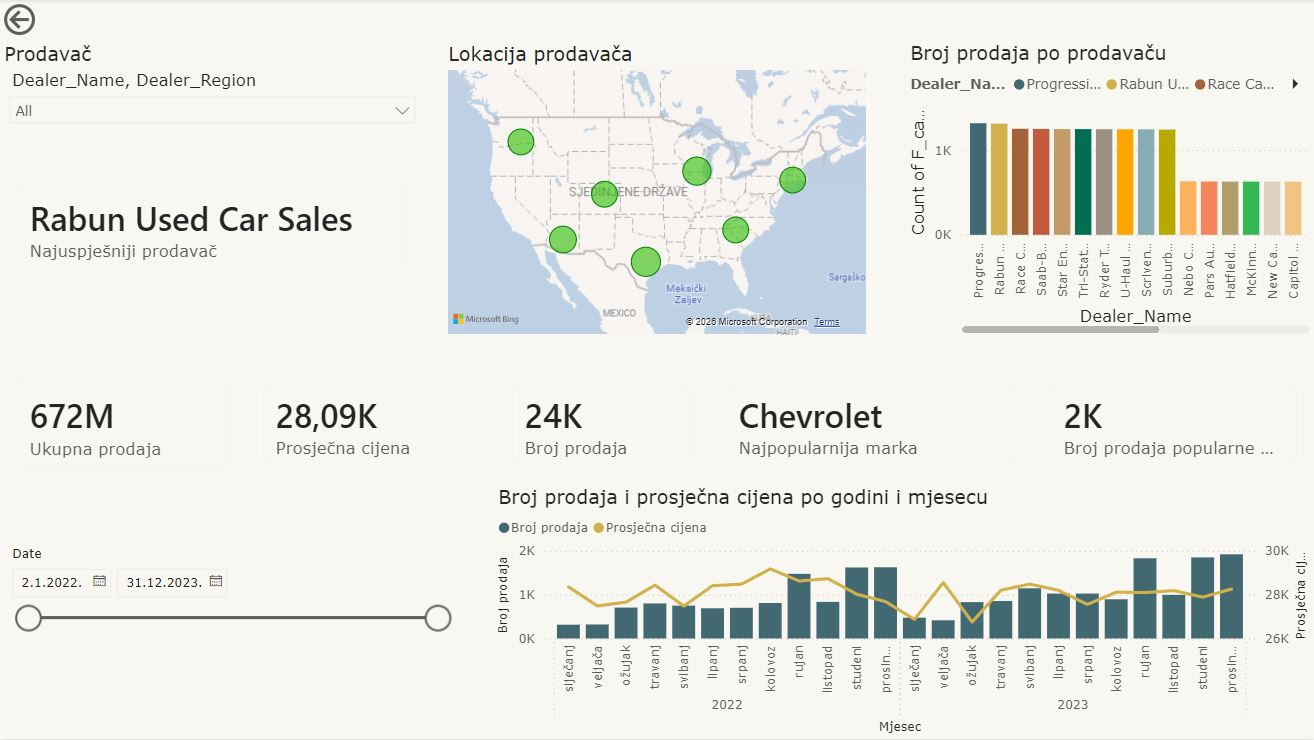

Layout of this report page (visuals, bound fields, positions):
{"tool":"powerbi","page":{"name":"Geografska analiza","canvas":[1280,720],"ordinal":3},"visuals":[{"type":"map","title":"Lokacija prodavača","fields":{"Category":["dim_dealer.Dealer_Region"],"Size":["fact_sale.Broj prodaja"]},"box":[431.8,40.8,415.9,290],"z":0},{"type":"actionButton","box":[0,0,100,40],"z":1000},{"type":"slicer","title":"Prodavač","fields":{"Values":["dim_dealer.Dealer_Name","dim_dealer.Dealer_Region"]},"box":[0,40.8,415,92.2],"z":2000},{"type":"columnChart","title":"Broj prodaja po prodavaču","fields":{"Series":["dim_dealer.Dealer_Name"],"Category":["dim_dealer.Dealer_Name"],"Y":["CountNonNull(fact_sale.F_car_id)"]},"box":[881.4,39.9,399,290.8],"z":3000},{"type":"cardVisual","fields":{"Data":["fact_sale.Prosječna cijena"]},"box":[239.4,360,242.1,105.5],"z":4000},{"type":"cardVisual","fields":{"Data":["fact_sale.Broj_prodaja_najprodavanije"]},"box":[1005.5,360,274.9,105.5],"z":5000},{"type":"cardVisual","fields":{"Data":["fact_sale.Ukupna prodaja"]},"box":[0,353.8,239.4,117.9],"z":6000},{"type":"cardVisual","fields":{"Data":["fact_sale.Najprodavanija_marka"]},"box":[689.9,360,315.7,105.5],"z":7000},{"type":"cardVisual","fields":{"Data":["fact_sale.Broj prodaja"]},"box":[481.5,360,208.4,105.5],"z":8000},{"type":"slicer","fields":{"Values":["dim_date.Date"]},"box":[0,527.6,447.8,125.9],"z":9000},{"type":"lineStackedColumnComboChart","title":"Broj prodaja i prosječna cijena po godini i mjesecu","fields":{"Y":["fact_sale.Broj prodaja"],"Category":["dim_date.Date.Varijacija.Hijerarhija datuma.Godina","dim_date.Date.Varijacija.Hijerarhija datuma.Mjesec"],"Y2":["fact_sale.Prosječna cijena"]},"box":[480.6,471.7,799.8,248.3],"z":10000},{"type":"cardVisual","fields":{"Data":["fact_sale.Najuspjesniji prodavac"]},"box":[0,165.8,415,112.6],"z":11000}]}

Visuals, with their boxes in screenshot pixels (x1, y1, x2, y2), scaled from the page's 1280x720 canvas onto the 1314x740 screenshot:
"Lokacija prodavača" map: (x1=443, y1=42, x2=870, y2=340)
actionButton: (x1=0, y1=0, x2=103, y2=41)
"Prodavač" slicer: (x1=0, y1=42, x2=426, y2=137)
"Broj prodaja po prodavaču" columnChart: (x1=905, y1=41, x2=1313, y2=340)
cardVisual - fact_sale.Prosječna cijena: (x1=246, y1=370, x2=494, y2=478)
cardVisual - fact_sale.Broj_prodaja_najprodavanije: (x1=1032, y1=370, x2=1313, y2=478)
cardVisual - fact_sale.Ukupna prodaja: (x1=0, y1=364, x2=246, y2=485)
cardVisual - fact_sale.Najprodavanija_marka: (x1=708, y1=370, x2=1032, y2=478)
cardVisual - fact_sale.Broj prodaja: (x1=494, y1=370, x2=708, y2=478)
slicer - dim_date.Date: (x1=0, y1=542, x2=460, y2=672)
"Broj prodaja i prosječna cijena po godini i mjesecu" lineStackedColumnComboChart: (x1=493, y1=485, x2=1313, y2=739)
cardVisual - fact_sale.Najuspjesniji prodavac: (x1=0, y1=170, x2=426, y2=286)
